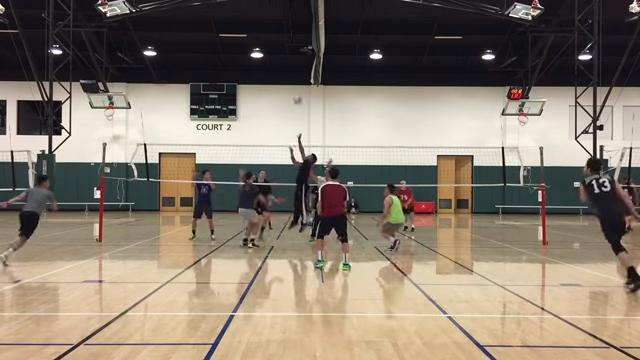Player: (580, 158, 639, 291), (0, 175, 57, 265), (315, 167, 350, 270), (238, 170, 265, 247), (256, 170, 284, 238), (309, 159, 332, 241), (190, 170, 214, 240), (381, 184, 404, 250), (256, 170, 272, 238), (396, 180, 414, 232), (621, 177, 638, 206)
Set: (284, 127, 315, 236)
ball: (291, 94, 304, 106)
